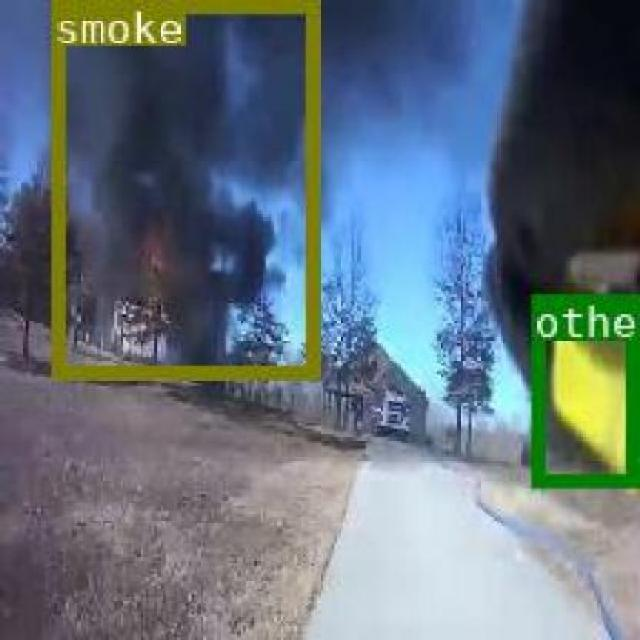Smoke: (50, 0, 316, 377)
